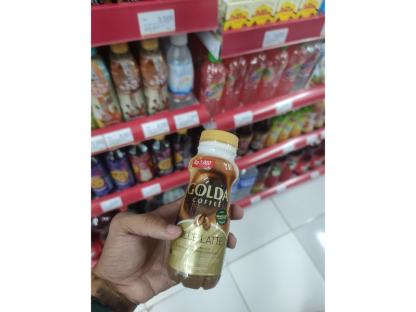Plastic Bottle: (156, 121, 244, 296)
